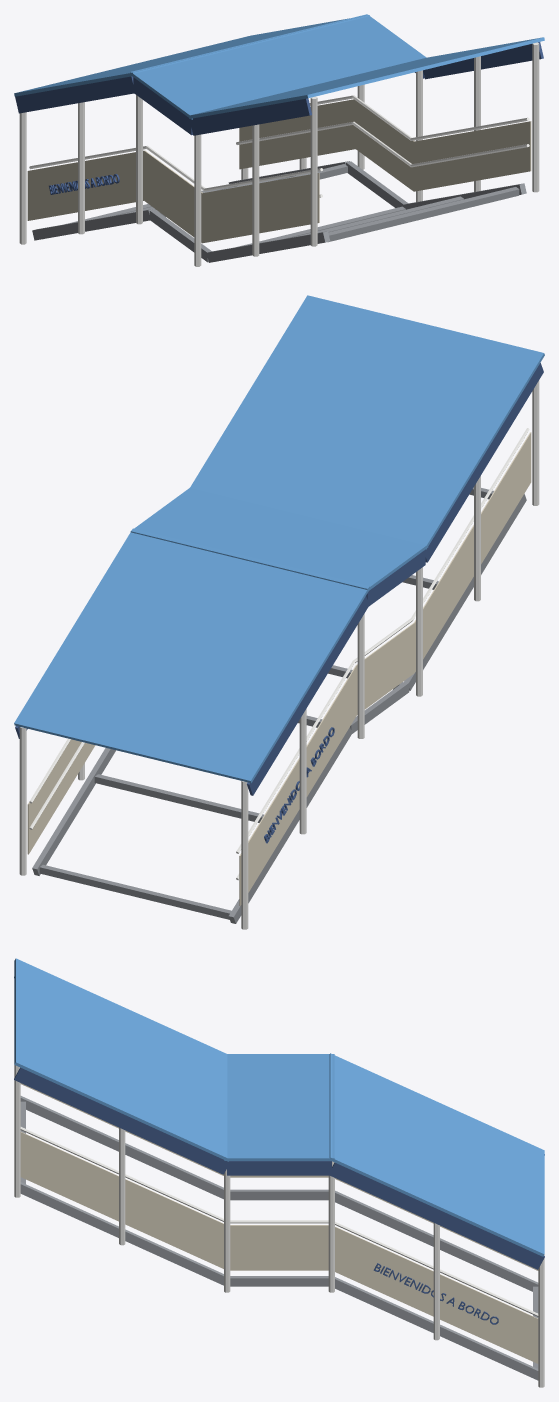
Rendered from CR_Pasarela.fbx.
The picture shows the model from 3 angles, top to bottom: view 1: azimuth 30°, elevation 25°; view 2: azimuth 150°, elevation 25°; view 3: azimuth 270°, elevation 25°; orthographic projection. The views are drawn at different scales.
Parts seen in each view (by area): view 1: CR_Pasarela; view 2: CR_Pasarela; view 3: CR_Pasarela.
Part boxes in pixels (<box>): CR_Pasarela: <box>14,14,544,266</box>; CR_Pasarela: <box>14,295,544,929</box>; CR_Pasarela: <box>14,958,544,1387</box>.
Size of the model in its own units: 4.7 by 6.9 by 10.13.
